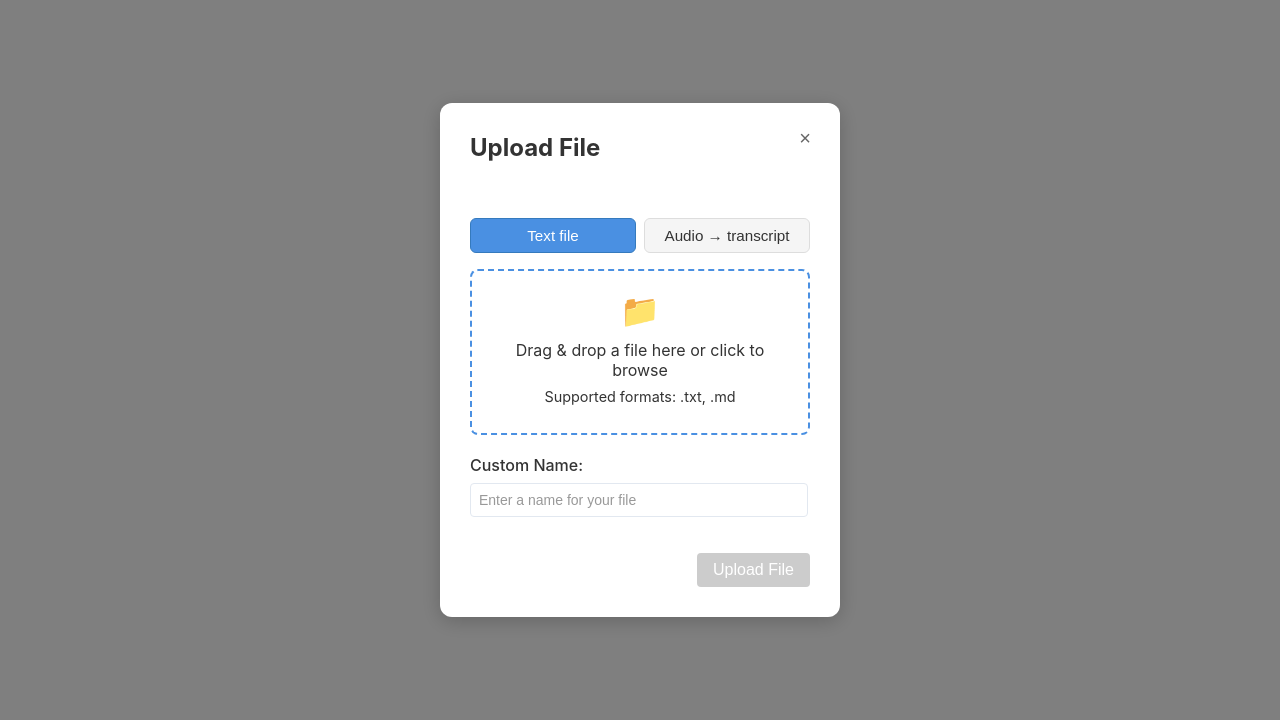
Test: audio tab Record sub-tab shows Start recording
The width and height of the screenshot is (1280, 720).
Click the tab "Audio → transcript".
click(727, 236)  # box [644,218,810,253]
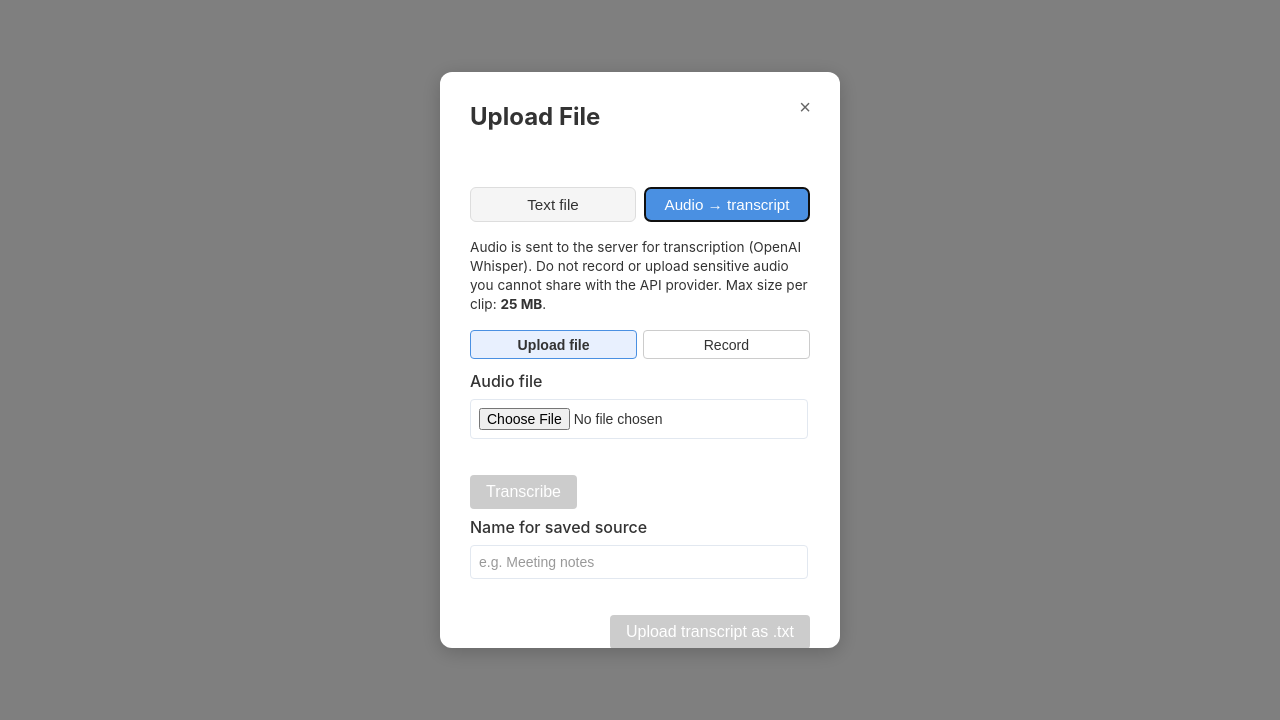
Click the tab "Record".
click(726, 345)  # box [643,330,810,359]
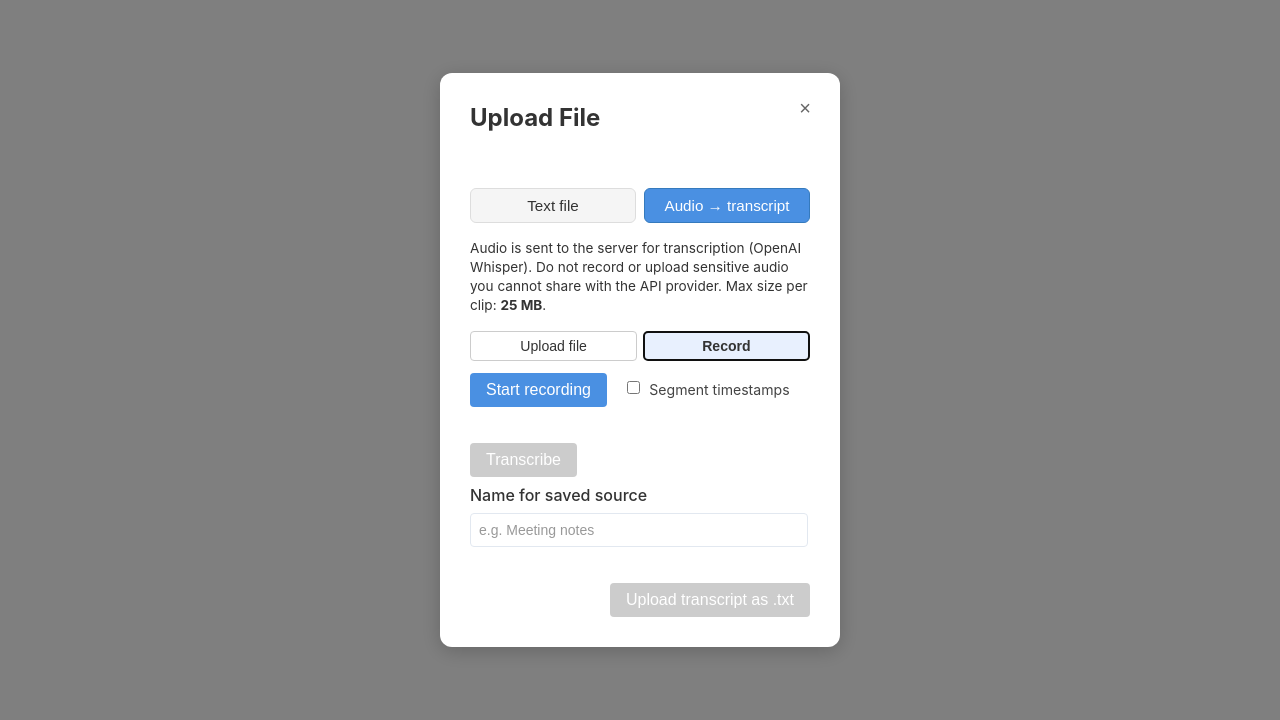
Expected: the button "Start recording" is shown, [470,373,607,407]
